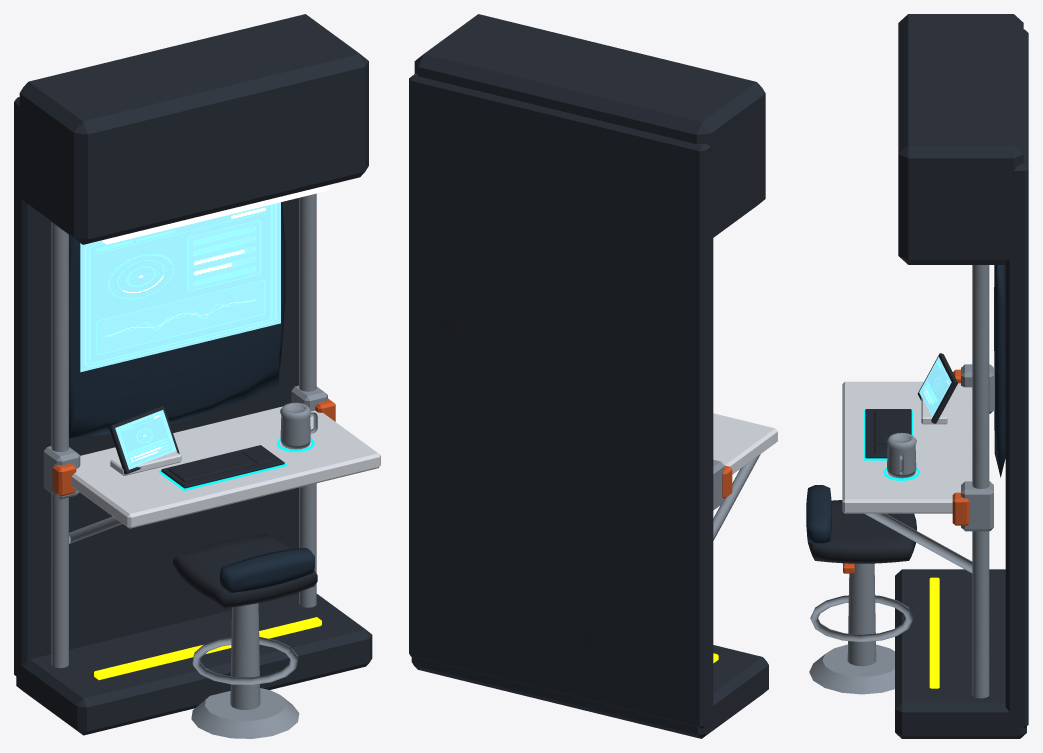
Rendered from walldesk_r1_04.glb.
The picture shows the model from 3 angles, left to right: view 1: azimuth 30°, elevation 25°; view 2: azimuth 150°, elevation 25°; view 3: azimuth 270°, elevation 25°; orthographic projection. The views are drawn at different scales.
Parts seen in each view (by area): view 1: WallDesk04_CarbonSlateTrackFrame, WallDesk04_MainOLEDTerminal, WallDesk04_TwinLinearGuideRailsAndStool, WallDesk04_NavyBackwallPad, WallDesk04_AdjustableWhiteDeskAndStowedKit, WallDesk04_CharcoalStoolCushion, WallDesk04_DockedDatapadOLED, WallDesk04_AmberBaseLED, WallDesk04_TaskLightIceWhite, WallDesk04_SignalOrangeRailLocks; view 2: WallDesk04_CarbonSlateTrackFrame, WallDesk04_AdjustableWhiteDeskAndStowedKit, WallDesk04_TwinLinearGuideRailsAndStool; view 3: WallDesk04_CarbonSlateTrackFrame, WallDesk04_TwinLinearGuideRailsAndStool, WallDesk04_AdjustableWhiteDeskAndStowedKit, WallDesk04_CharcoalStoolCushion, WallDesk04_NavyBackwallPad, WallDesk04_AmberBaseLED, WallDesk04_DockedDatapadOLED, WallDesk04_SignalOrangeRailLocks.
Part boxes in pixels (<box>): WallDesk04_CarbonSlateTrackFrame: <box>14,14,372,735</box>; WallDesk04_MainOLEDTerminal: <box>80,202,280,372</box>; WallDesk04_TwinLinearGuideRailsAndStool: <box>43,193,327,738</box>; WallDesk04_NavyBackwallPad: <box>69,202,314,592</box>; WallDesk04_AdjustableWhiteDeskAndStowedKit: <box>71,406,380,528</box>; WallDesk04_CharcoalStoolCushion: <box>109,406,317,608</box>; WallDesk04_DockedDatapadOLED: <box>115,410,176,469</box>; WallDesk04_AmberBaseLED: <box>94,617,321,679</box>; WallDesk04_TaskLightIceWhite: <box>101,185,329,244</box>; WallDesk04_SignalOrangeRailLocks: <box>52,398,335,496</box>; WallDesk04_CarbonSlateTrackFrame: <box>409,14,768,738</box>; WallDesk04_AdjustableWhiteDeskAndStowedKit: <box>713,413,777,474</box>; WallDesk04_TwinLinearGuideRailsAndStool: <box>713,454,760,540</box>; WallDesk04_CarbonSlateTrackFrame: <box>895,14,1028,738</box>; WallDesk04_TwinLinearGuideRailsAndStool: <box>809,265,993,698</box>; WallDesk04_AdjustableWhiteDeskAndStowedKit: <box>842,381,972,513</box>; WallDesk04_CharcoalStoolCushion: <box>807,353,957,563</box>; WallDesk04_NavyBackwallPad: <box>806,265,1005,544</box>; WallDesk04_AmberBaseLED: <box>929,577,939,688</box>; WallDesk04_DockedDatapadOLED: <box>919,356,951,417</box>; WallDesk04_SignalOrangeRailLocks: <box>843,369,969,573</box>.
Size of the model in its own units: 1 by 1.98 by 0.674.
Materials: 12 (12 with a texture image).
